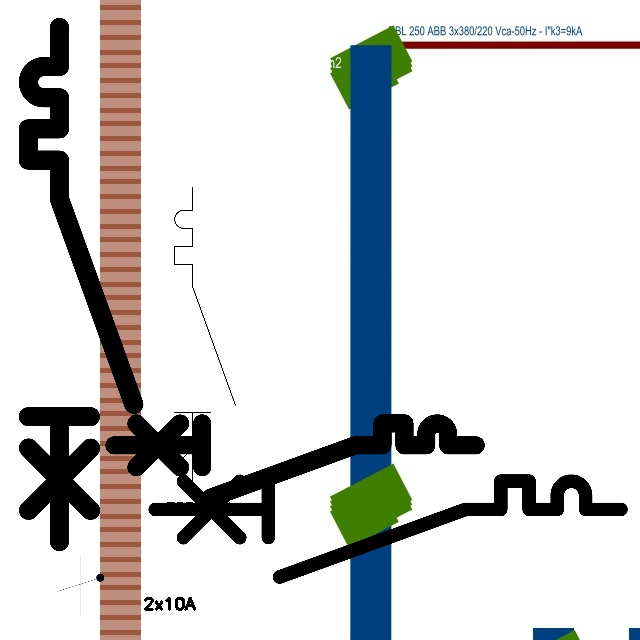interruptor_termomagnetico: (15, 14, 147, 555), (143, 469, 633, 589), (105, 414, 485, 507), (167, 180, 243, 492)
